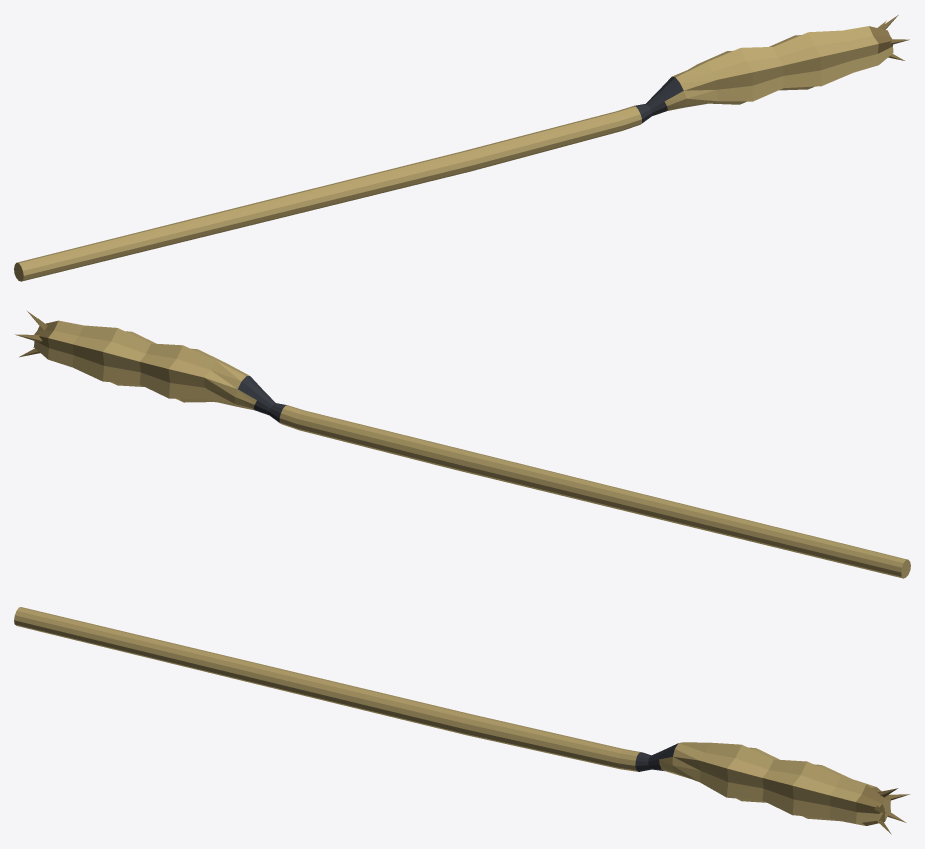
Rendered from wheat_stalk.glb.
3 views of the same model, one above another, from view 1: azimuth 30°, elevation 25°; view 2: azimuth 150°, elevation 25°; view 3: azimuth 330°, elevation 25° (orthographic).
Parts seen in each view (by area): view 1: wheat_stalk; view 2: wheat_stalk; view 3: wheat_stalk.
Part boxes in pixels (<box>): wheat_stalk: <box>14,15,909,281</box>; wheat_stalk: <box>15,310,910,578</box>; wheat_stalk: <box>14,607,910,834</box>.
Bounding box in the file's own units: 0.38 × 0.0237 × 0.022.
